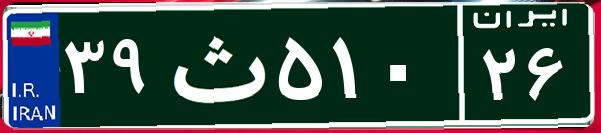0: (385, 28, 445, 110)
1: (330, 28, 385, 110)
2: (475, 38, 525, 113)
3: (57, 26, 110, 107)
5: (273, 28, 330, 110)
6: (525, 38, 570, 115)
9: (110, 28, 158, 105)
ث: (158, 15, 273, 115)
